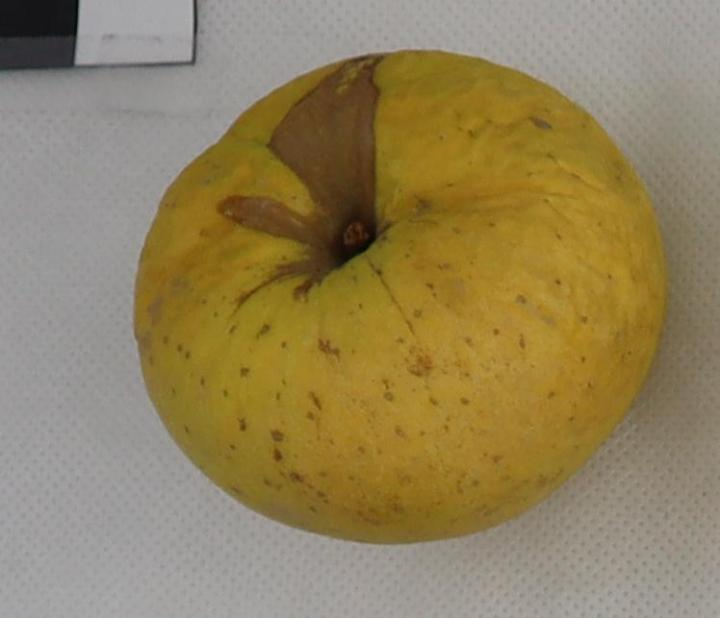apple: (135, 51, 665, 542)
bruise_discoloration: (218, 57, 381, 294)
